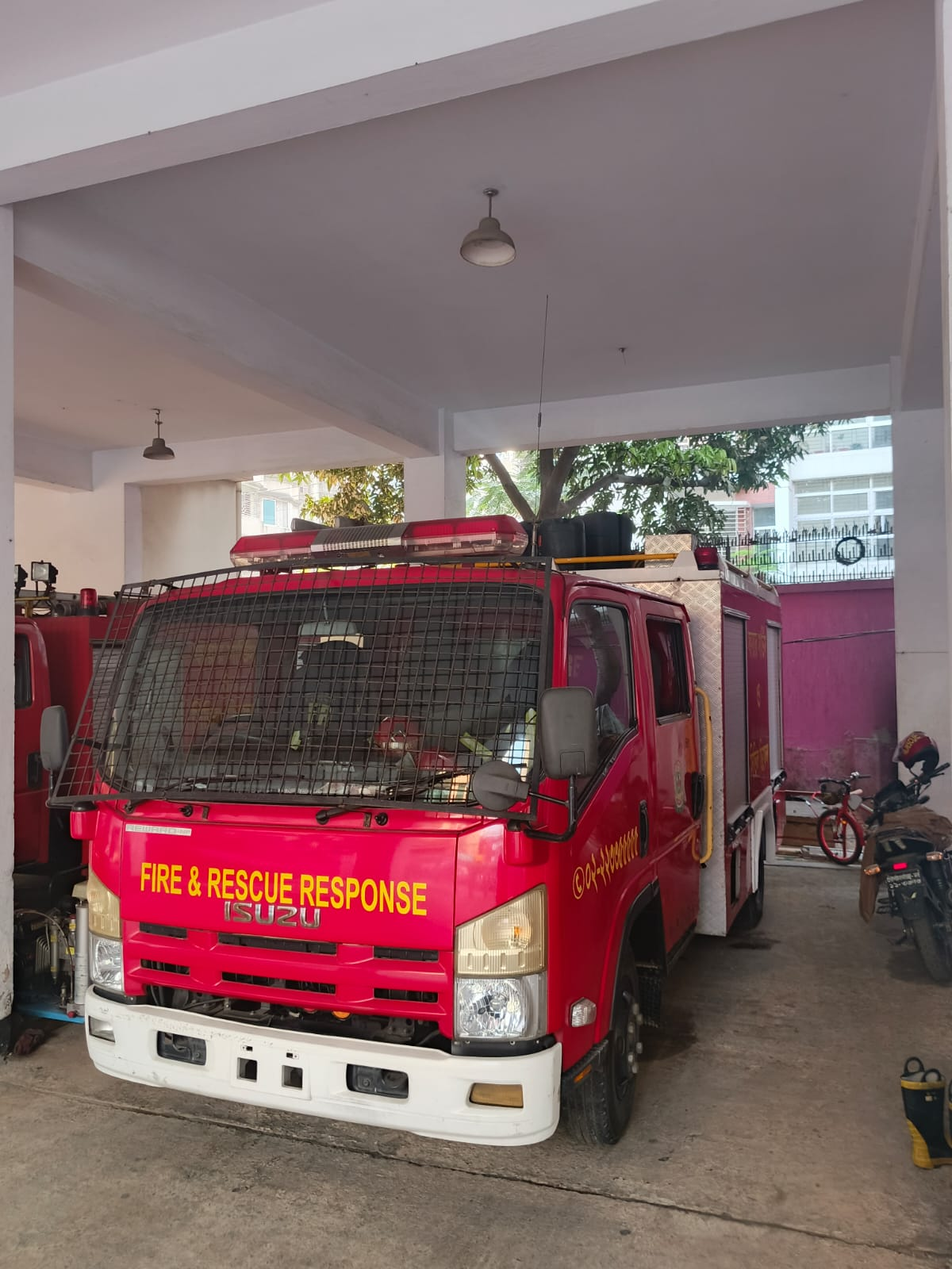Fire truck: (56, 493, 793, 1174)
